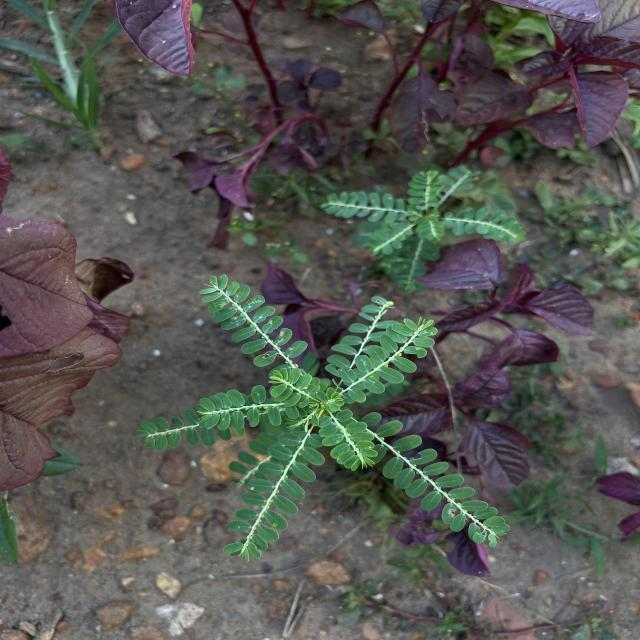Phyllanthus niruri: (359, 411, 512, 548), (221, 430, 325, 565), (198, 272, 310, 368), (336, 316, 442, 404), (316, 406, 379, 472), (194, 383, 272, 434), (266, 366, 319, 406)
